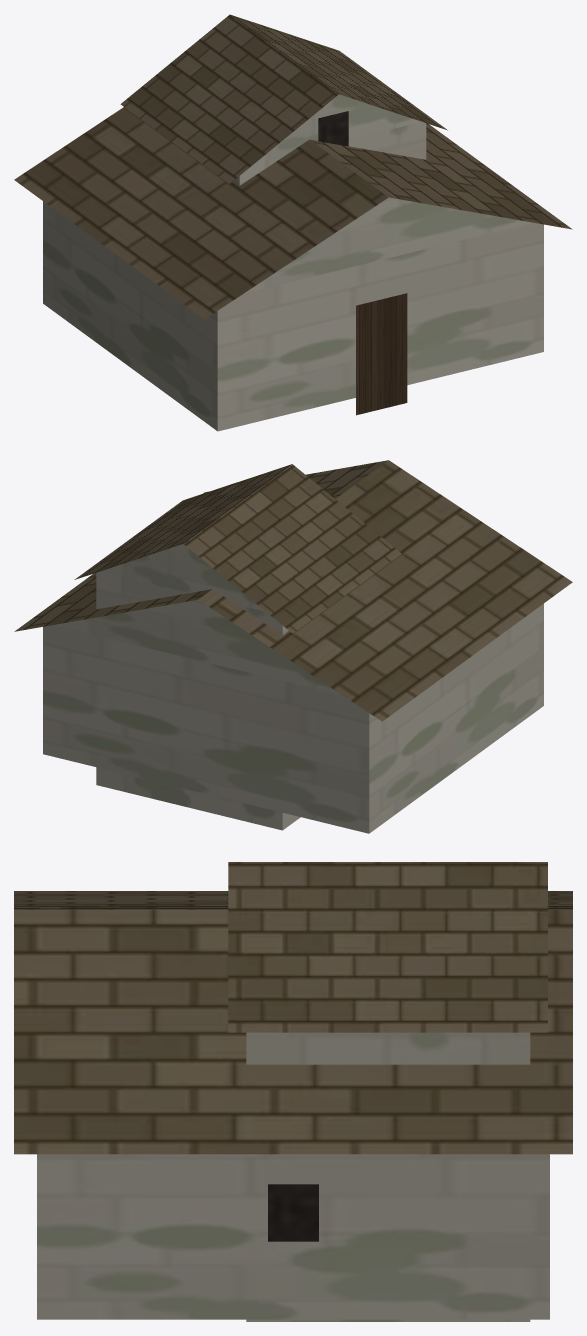
File: ae_forest_stone_large_terrace_lod2.glb
The picture shows the model from 3 angles, top to bottom: view 1: azimuth 30°, elevation 25°; view 2: azimuth 150°, elevation 25°; view 3: azimuth 270°, elevation 25°; orthographic projection. The views are drawn at different scales.
Parts seen in each view (by area): view 1: ae_forest_stone_large_terrace_lod2; view 2: ae_forest_stone_large_terrace_lod2; view 3: ae_forest_stone_large_terrace_lod2.
Boxes of the visible parts, <box> form: ae_forest_stone_large_terrace_lod2: <box>14,14,572,431</box>; ae_forest_stone_large_terrace_lod2: <box>14,460,572,833</box>; ae_forest_stone_large_terrace_lod2: <box>14,862,572,1321</box>.
Size of the model in its own units: 7.9 by 5.5 by 7.09.
1 material, 1 textured.
